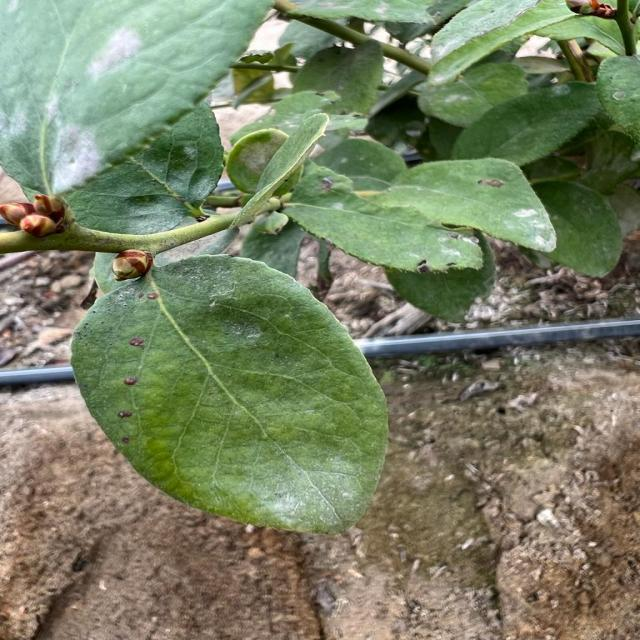Hojas con oidiosis: (66, 254, 392, 537)
